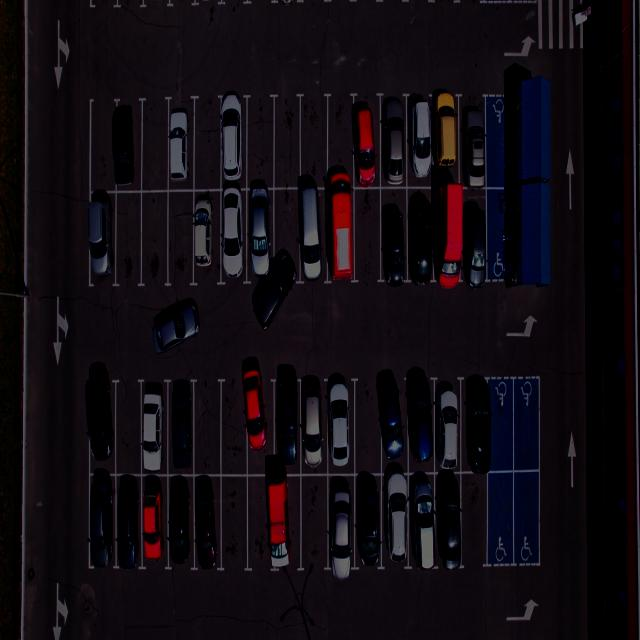empty: (298, 473, 331, 574), (192, 378, 224, 474), (192, 97, 224, 193), (139, 98, 171, 193), (139, 191, 171, 286), (218, 378, 249, 476), (113, 380, 144, 475), (114, 190, 144, 286), (352, 377, 382, 473), (168, 189, 198, 285), (218, 475, 248, 570), (271, 188, 302, 279), (247, 96, 277, 188), (351, 188, 381, 280), (328, 94, 358, 186), (462, 471, 491, 565), (514, 471, 543, 562), (486, 470, 514, 564), (248, 472, 274, 572), (298, 96, 326, 188), (87, 101, 116, 189), (273, 96, 301, 186), (515, 378, 542, 471), (489, 378, 514, 475)
occupied: (268, 472, 302, 574), (245, 373, 278, 473), (349, 472, 382, 566), (431, 184, 463, 280), (112, 97, 144, 193), (191, 473, 223, 568), (168, 97, 200, 192), (326, 376, 358, 471), (85, 192, 116, 287), (378, 474, 410, 566), (326, 474, 356, 572), (216, 188, 247, 282), (190, 189, 221, 283), (273, 377, 303, 474), (85, 375, 115, 472), (246, 186, 277, 278), (296, 187, 327, 279), (218, 96, 248, 191), (169, 378, 199, 473), (432, 375, 462, 470), (299, 376, 329, 471), (140, 382, 170, 476), (326, 186, 356, 279), (378, 377, 407, 472), (140, 472, 169, 566), (407, 186, 436, 280), (407, 92, 436, 185), (378, 187, 407, 280), (407, 374, 435, 470), (432, 470, 460, 564), (169, 477, 197, 571), (409, 470, 437, 564), (352, 96, 381, 186), (432, 95, 461, 185), (379, 96, 407, 188), (115, 473, 143, 564), (466, 379, 492, 473), (87, 474, 114, 564), (467, 188, 490, 285), (465, 97, 489, 187)
